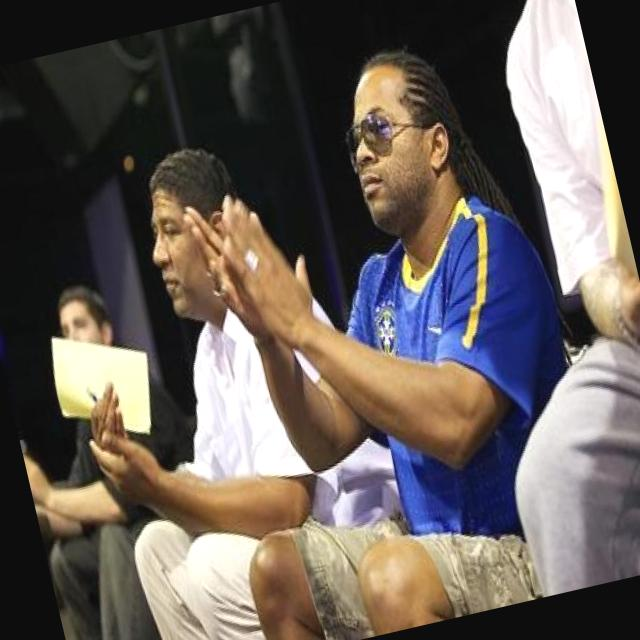no_vest: (290, 170, 600, 562), (140, 294, 289, 504)
